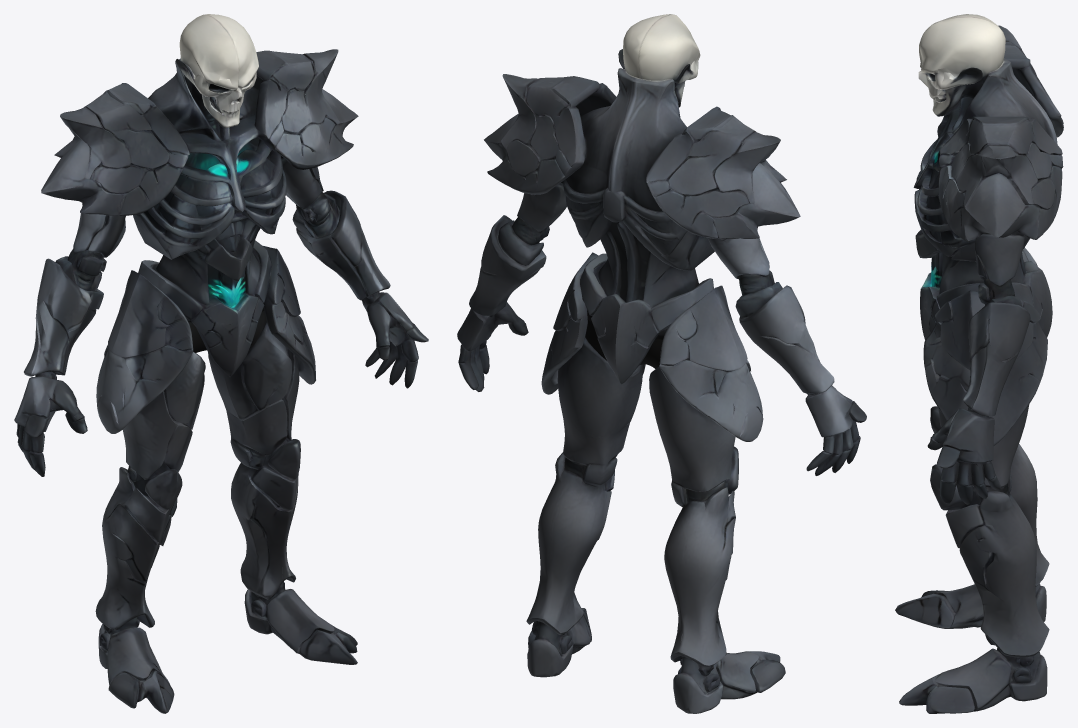
The model's file is boss_ossuary_matriarch.glb.
3 renders of one model, left to right at view 1: azimuth 30°, elevation 25°; view 2: azimuth 150°, elevation 25°; view 3: azimuth 270°, elevation 25°, orthographic.
Visible parts, largest first — view 1: model; view 2: model; view 3: model.
Boxes of the visible parts, x1,y1,x2,y2 form: model: [14, 14, 428, 713]; model: [457, 14, 866, 713]; model: [895, 14, 1063, 713].
Bounding box in the file's own units: 1.21 × 1.9 × 0.4533.
Materials: 1 (1 with a texture image).
